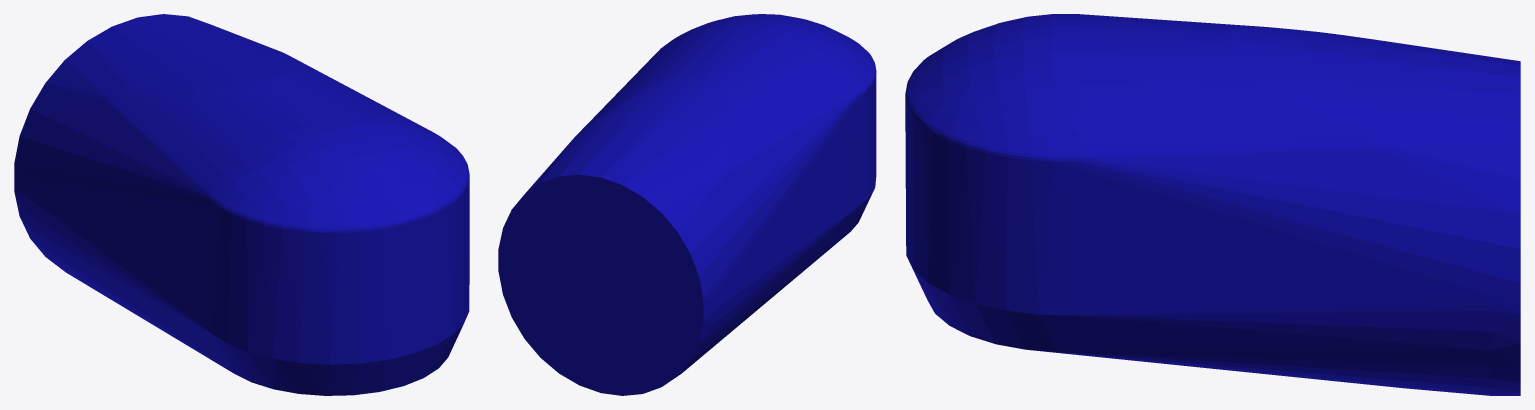
Rendered from MOTOMAN_AXIS_R.dae.
3 renders of one model, left to right at view 1: azimuth 30°, elevation 25°; view 2: azimuth 150°, elevation 25°; view 3: azimuth 270°, elevation 25°, orthographic. The views are drawn at different scales.
Visible parts, largest first — view 1: node; view 2: node; view 3: node.
Boxes of the visible parts, x1=… form: node: x1=14, y1=14, x2=469, y2=395; node: x1=498, y1=14, x2=876, y2=395; node: x1=905, y1=14, x2=1520, y2=395.
Size of the model in its own units: 0.1328 by 0.1508 by 0.2445.
